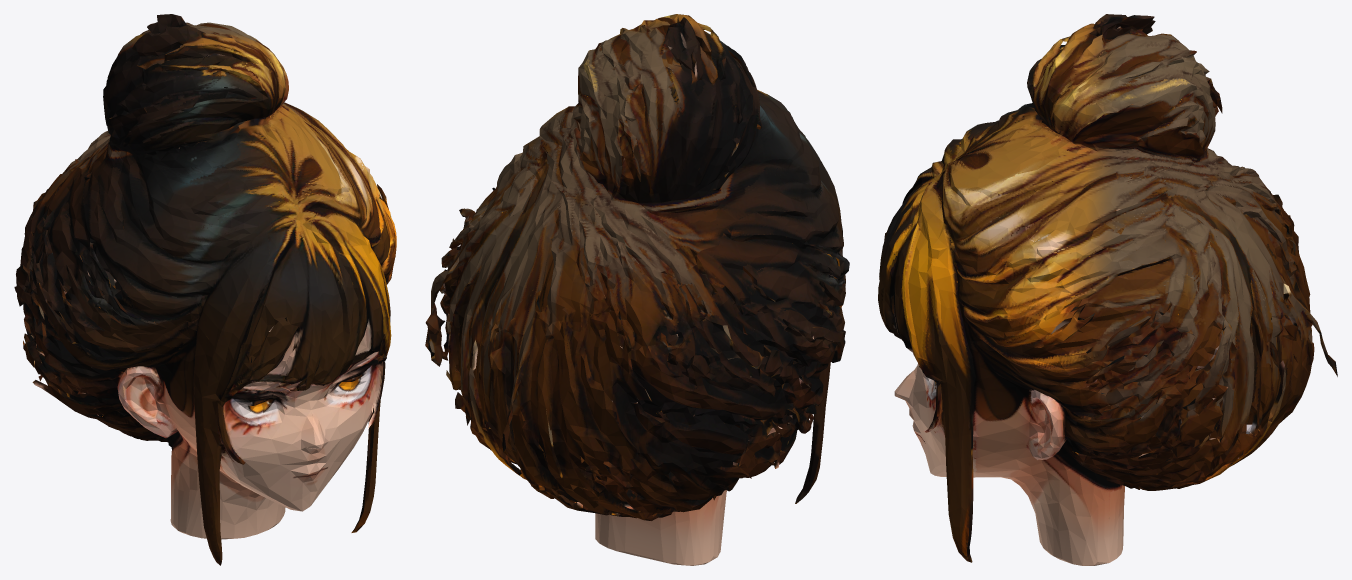
The model's file is side_nishi_repaired_atlas.glb.
3 views of the same model, side by side, from view 1: azimuth 30°, elevation 25°; view 2: azimuth 150°, elevation 25°; view 3: azimuth 270°, elevation 25° (orthographic). The views are drawn at different scales.
Parts seen in each view (by area): view 1: temp_mesh.ply; view 2: temp_mesh.ply; view 3: temp_mesh.ply.
Part boxes in pixels (x1=…): temp_mesh.ply: x1=14, y1=14, x2=396, y2=565; temp_mesh.ply: x1=425, y1=14, x2=849, y2=565; temp_mesh.ply: x1=878, y1=14, x2=1337, y2=565.
Size of the model in its own units: 1.16 by 1.64 by 1.34.
Materials: 1 (1 with a texture image).
